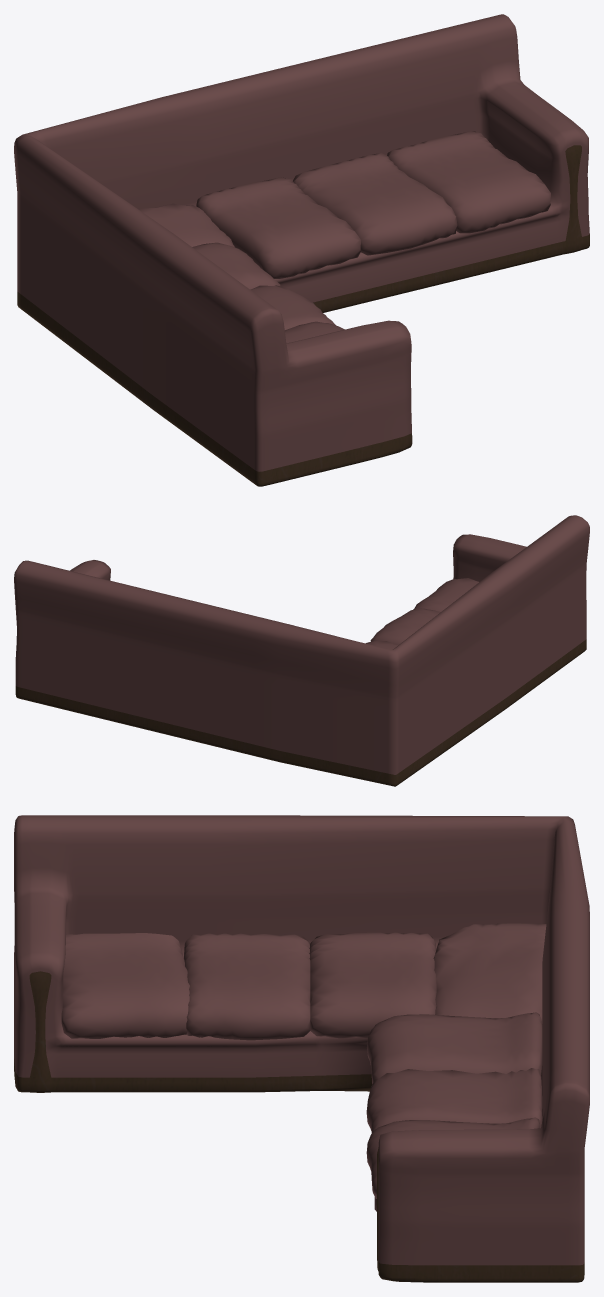
Rendered from couch_corner_alt.glb.
3 views of the same model, one above another, from view 1: azimuth 30°, elevation 25°; view 2: azimuth 150°, elevation 25°; view 3: azimuth 270°, elevation 25° (orthographic). The views are drawn at different scales.
Parts seen in each view (by area): view 1: CouchCornerAlt; view 2: CouchCornerAlt; view 3: CouchCornerAlt.
Boxes of the visible parts, bbox=[...] form: CouchCornerAlt: bbox=[14, 14, 589, 486]; CouchCornerAlt: bbox=[14, 515, 589, 786]; CouchCornerAlt: bbox=[14, 815, 589, 1282].
Bounding box in the file's own units: 3.83 × 1.28 × 3.36.
2 materials, 1 textured.
